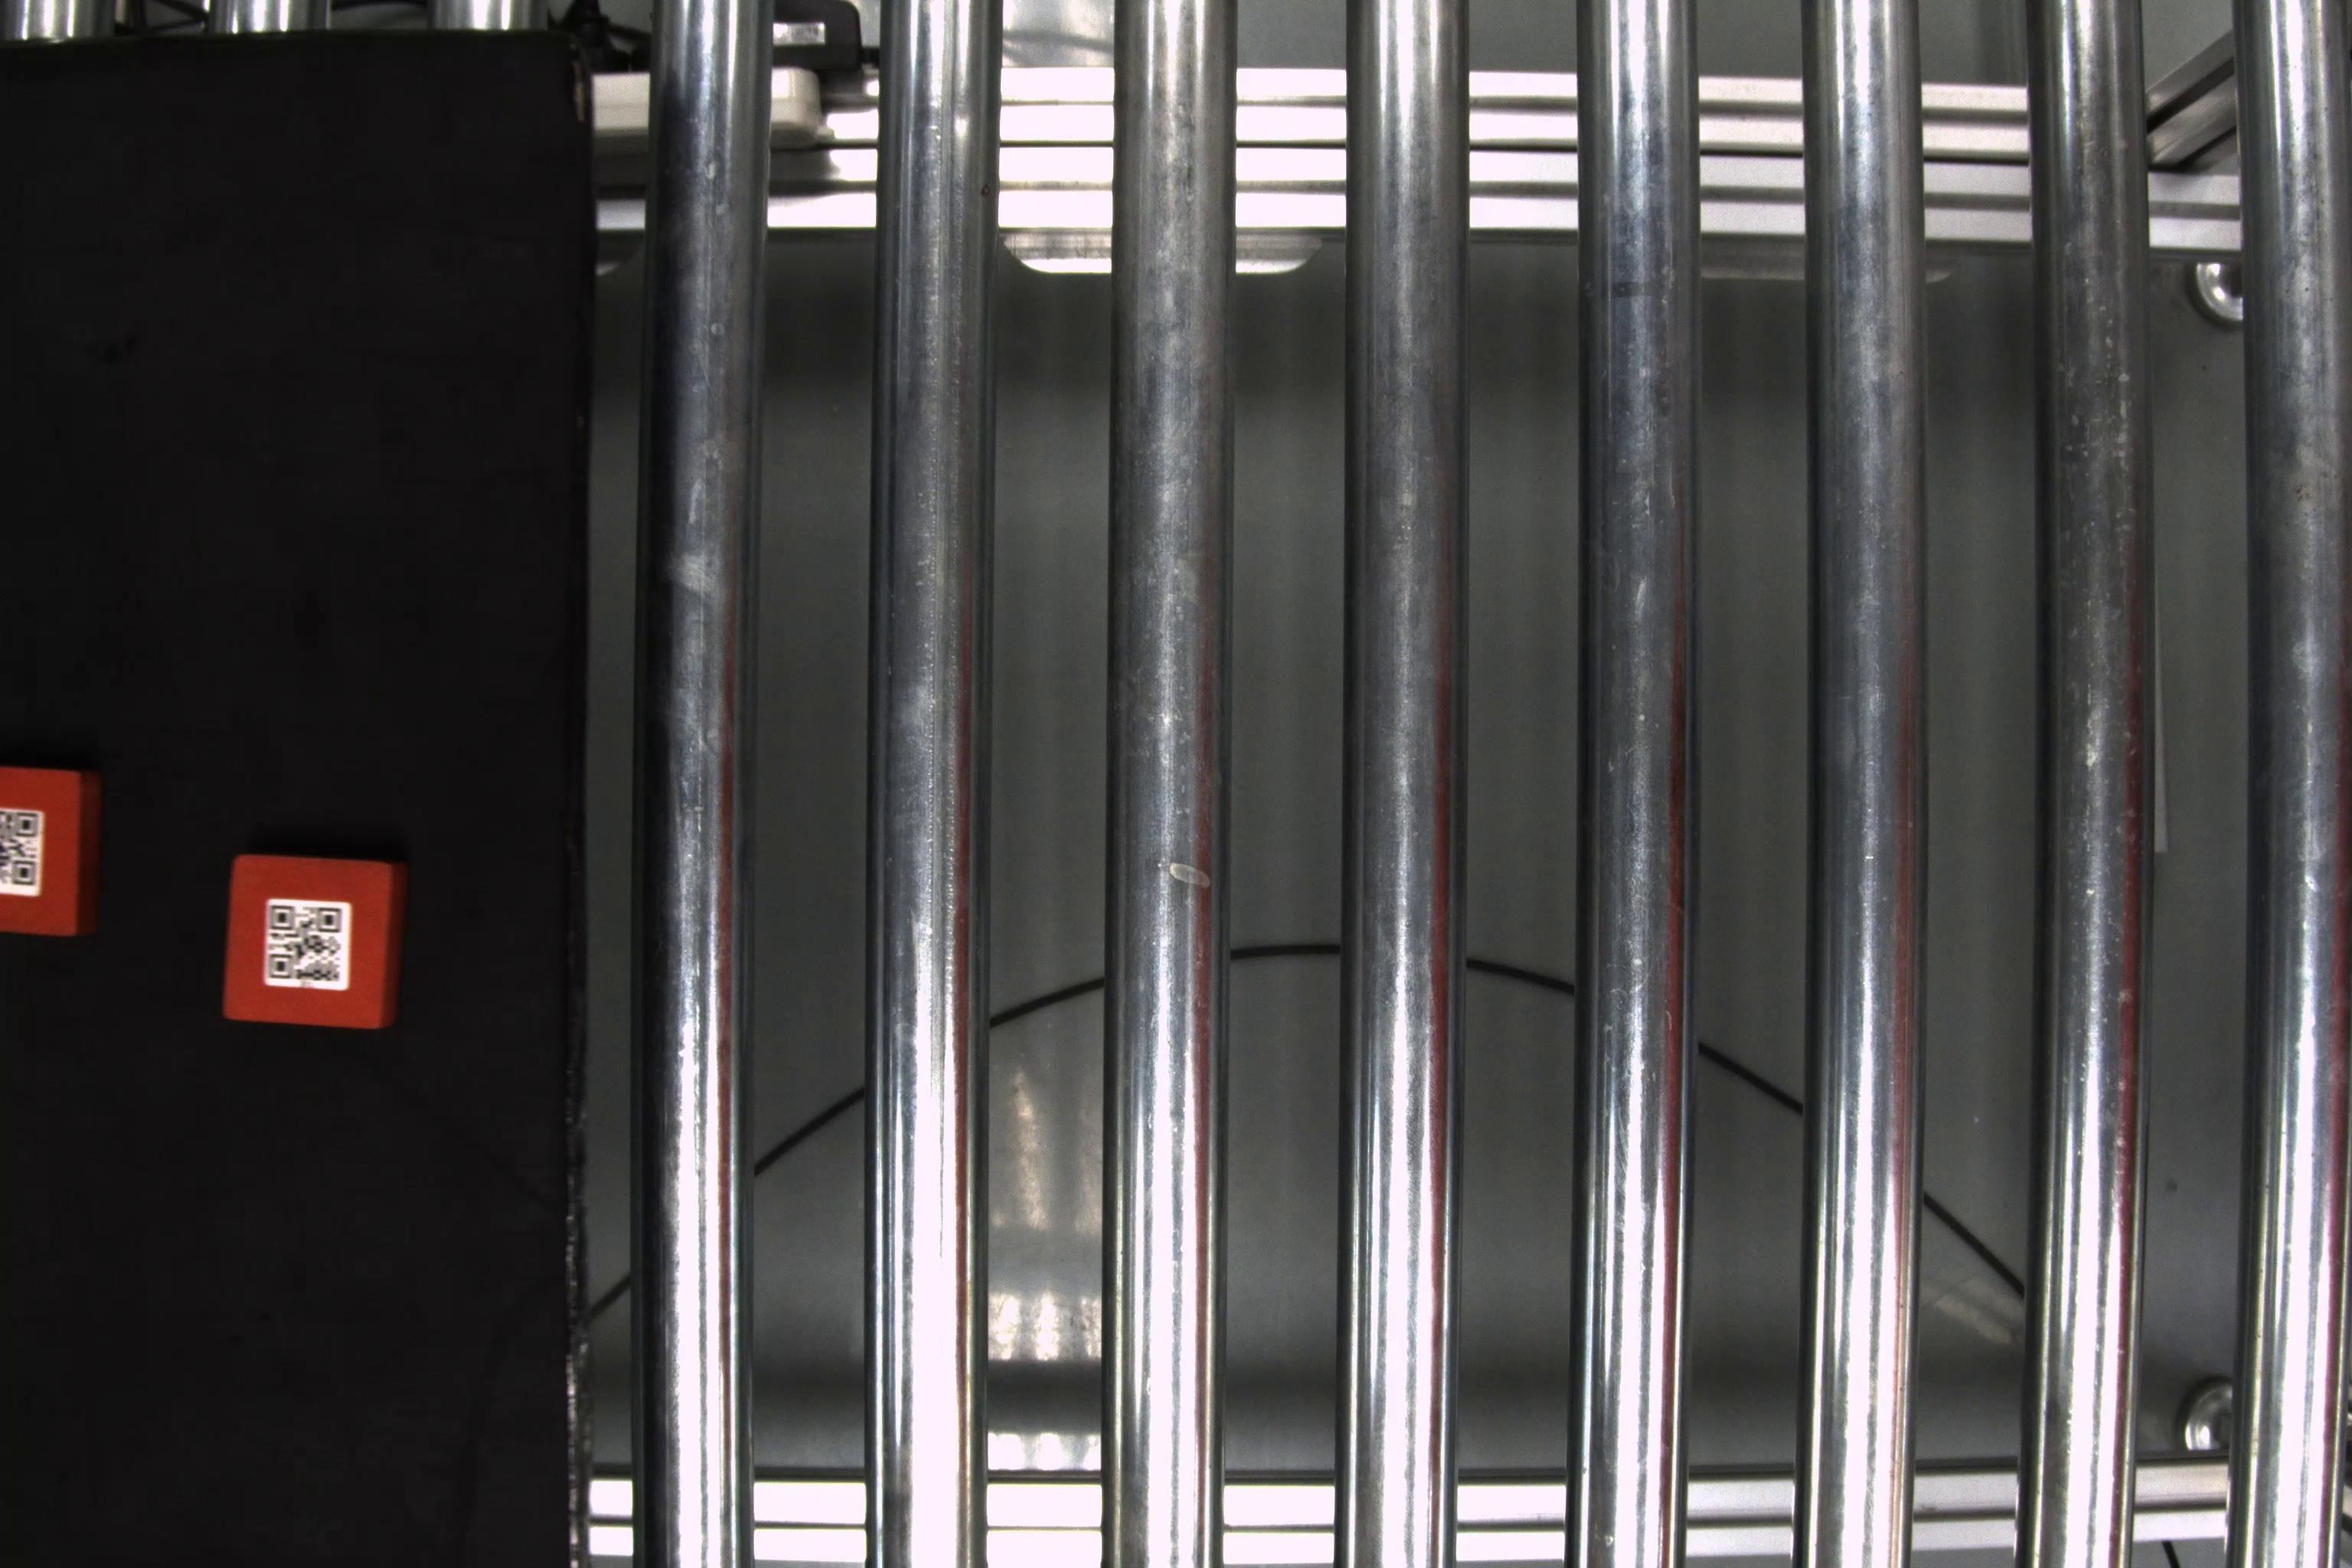wood: (220, 849, 406, 1034), (2, 759, 105, 940)
